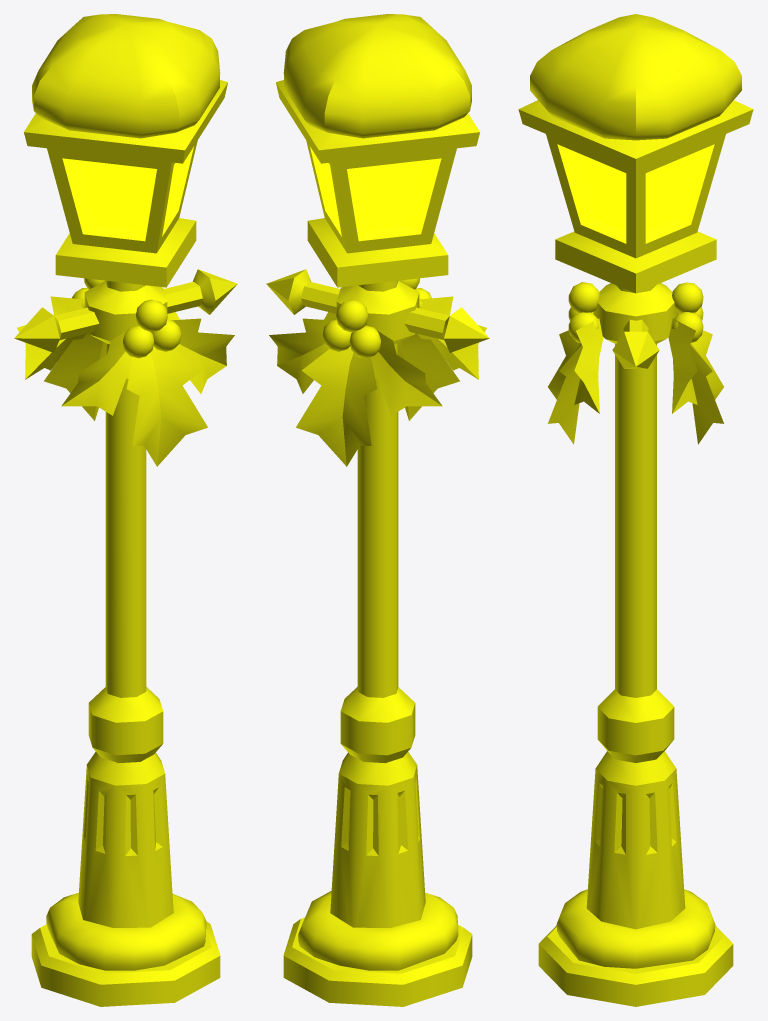
The model's file is kaykit-lantern-decorated.glb.
The picture shows the model from 3 angles, left to right: view 1: azimuth 30°, elevation 25°; view 2: azimuth 150°, elevation 25°; view 3: azimuth 270°, elevation 25°; orthographic projection.
Parts seen in each view (by area): view 1: lantern_decorated; view 2: lantern_decorated; view 3: lantern_decorated.
Boxes of the visible parts, bbox=[...] form: lantern_decorated: bbox=[14, 14, 237, 1006]; lantern_decorated: bbox=[266, 14, 489, 1006]; lantern_decorated: bbox=[518, 14, 753, 1006].
Size of the model in its own units: 0.9908 by 3.99 by 0.9051.
